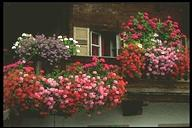flower: (6, 58, 128, 119), (119, 10, 190, 79), (9, 30, 82, 63)
window: (72, 18, 128, 60)
